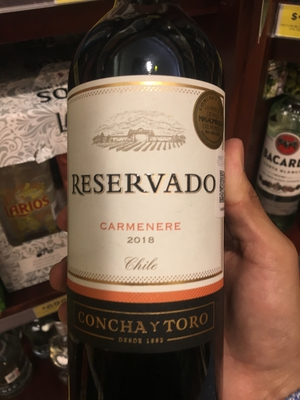reservado carmenere: (61, 6, 237, 400)
